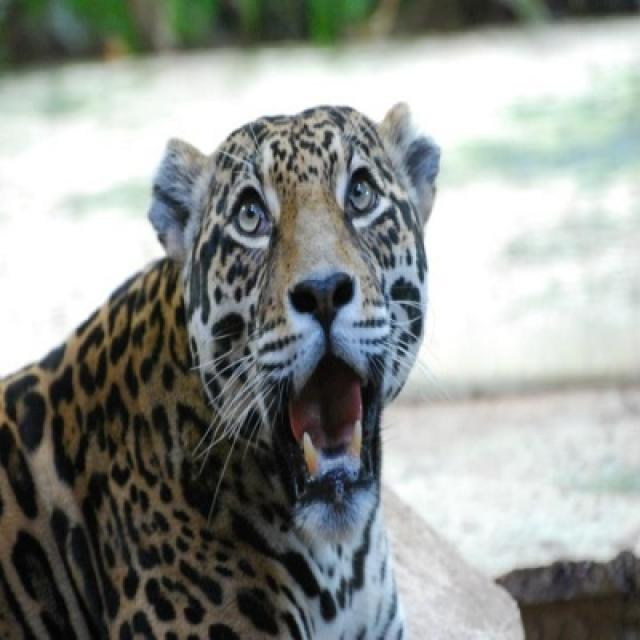Jaguar: (0, 102, 443, 638)
